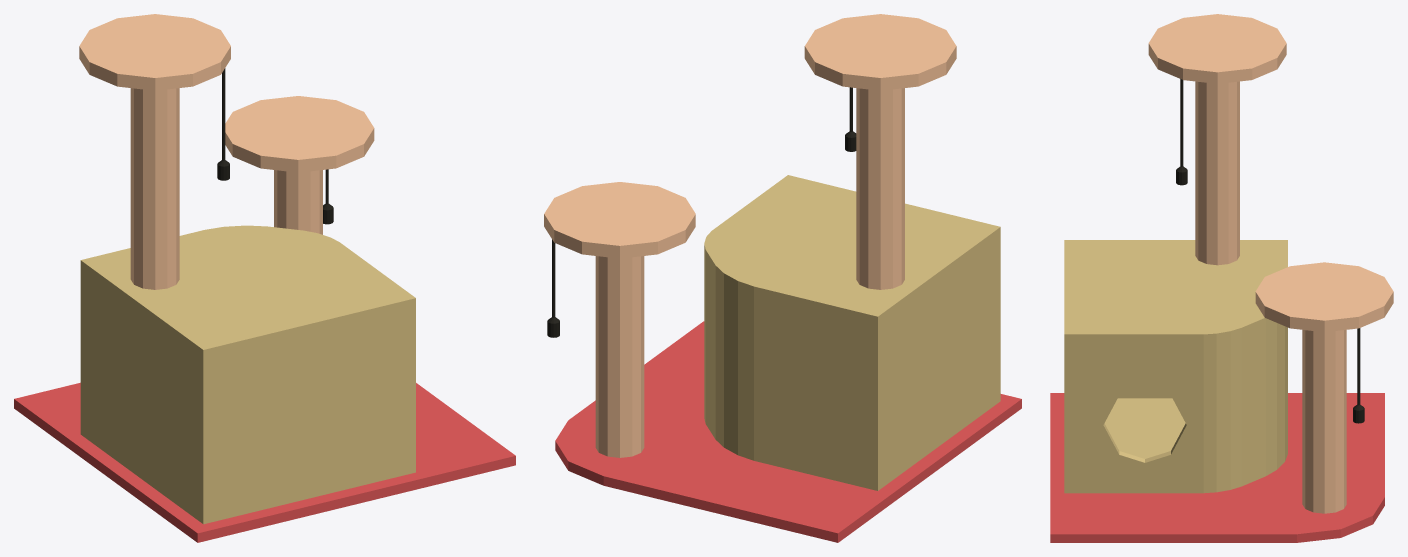
The model's file is catshome.fbx.
The picture shows the model from 3 angles, left to right: view 1: azimuth 30°, elevation 25°; view 2: azimuth 150°, elevation 25°; view 3: azimuth 270°, elevation 25°; orthographic projection. The views are drawn at different scales.
Parts seen in each view (by area): view 1: Plane.001, Cylinder, Plane, Cylinder.001, Cylinder.002; view 2: Plane.001, Plane, Cylinder.001, Cylinder; view 3: Plane.001, Plane, Cylinder.001, Cylinder, Cylinder.002, Cylinder.003.
Boxes of the visible parts, x1,y1,x2,y2 form: Plane.001: (80,225,415,524); Cylinder: (79,14,230,289); Plane: (14,382,515,542); Cylinder.001: (225,96,374,234); Cylinder.002: (217,68,229,180); Plane.001: (704,175,1000,490); Plane: (555,321,1021,542); Cylinder.001: (544,182,695,457); Cylinder: (804,14,956,289); Plane.001: (1064,240,1287,493); Plane: (1050,393,1384,542); Cylinder.001: (1255,262,1393,513); Cylinder: (1148,14,1286,265); Cylinder.002: (1176,79,1187,185); Cylinder.003: (1353,328,1364,423).
Bounding box in the file's own units: 210 × 251 × 205.
